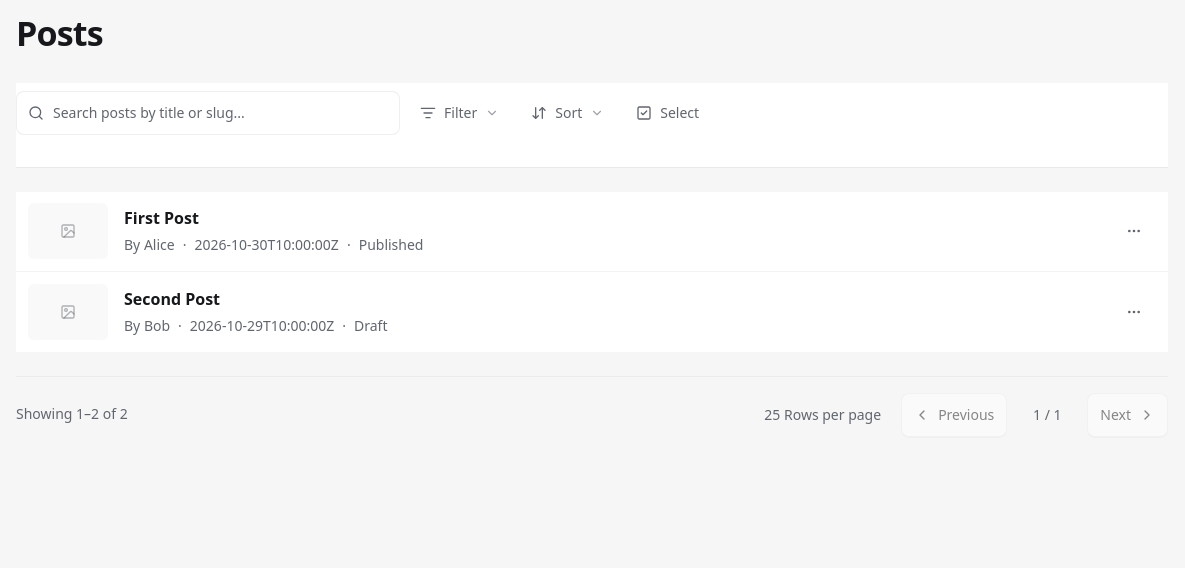
Editorial Selection System — Posts and Pages lifecycle & stability › PostsList selection lifecycle › preserves selection state across language/theme changes without clearing
Click the button "Select" at [668, 112], box [624,90,711,134]
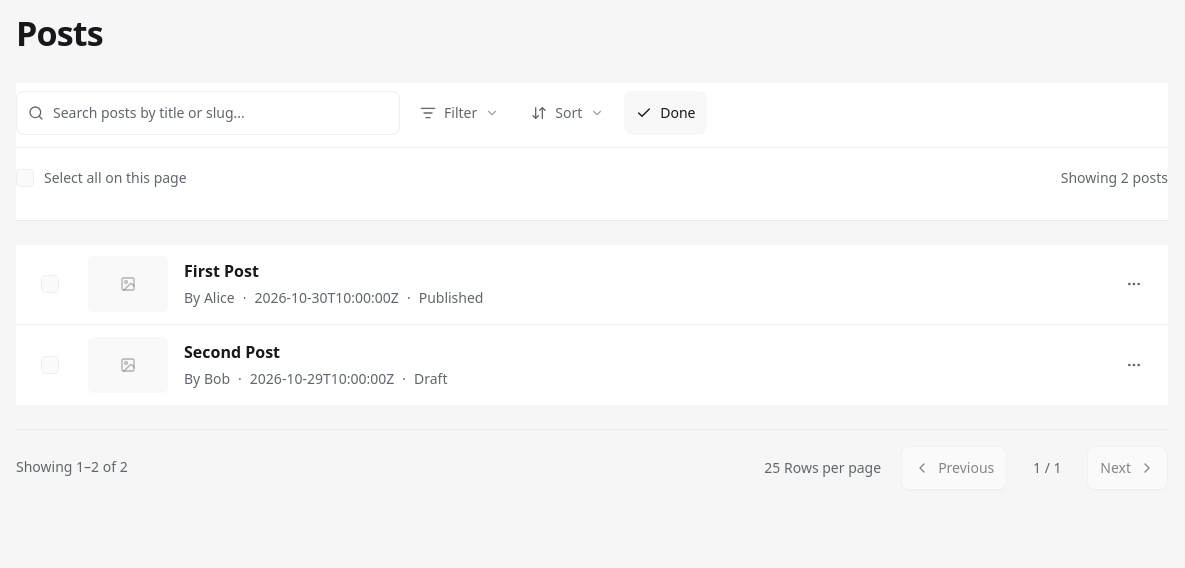
Select first post
Click the heading "First Post" at [221, 271], box [184,260,259,282]
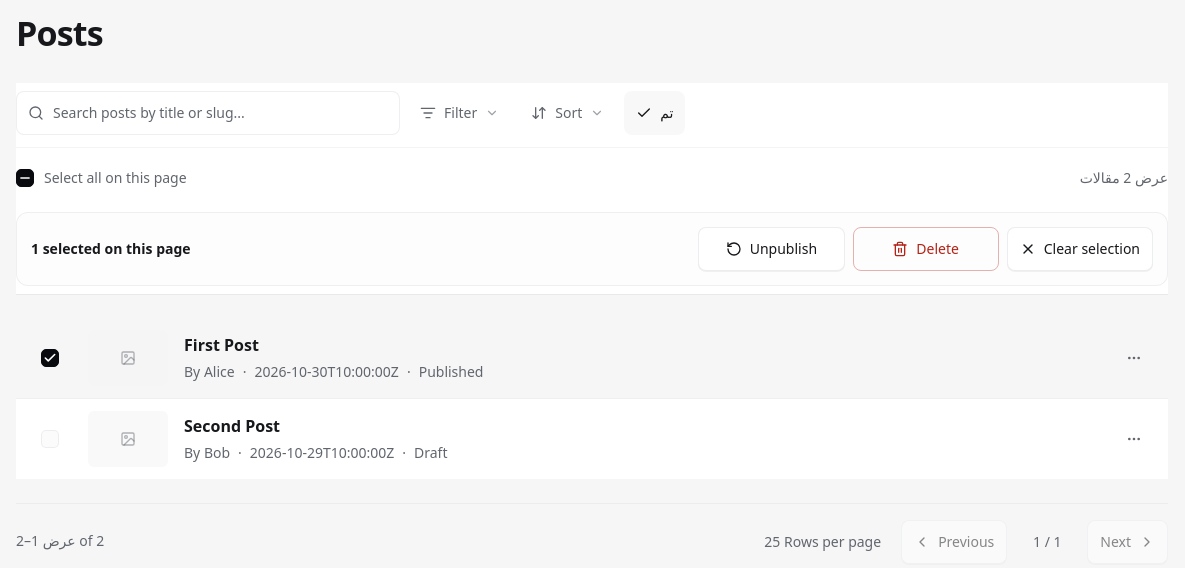
Expected: the button "تم" is shown, [624,90,685,134]
Expected: the element named "Bulk actions" is shown, [16,212,1168,286]
Expected: the checkbox named "تحديد: First Post" is checked, [41,349,59,367]
